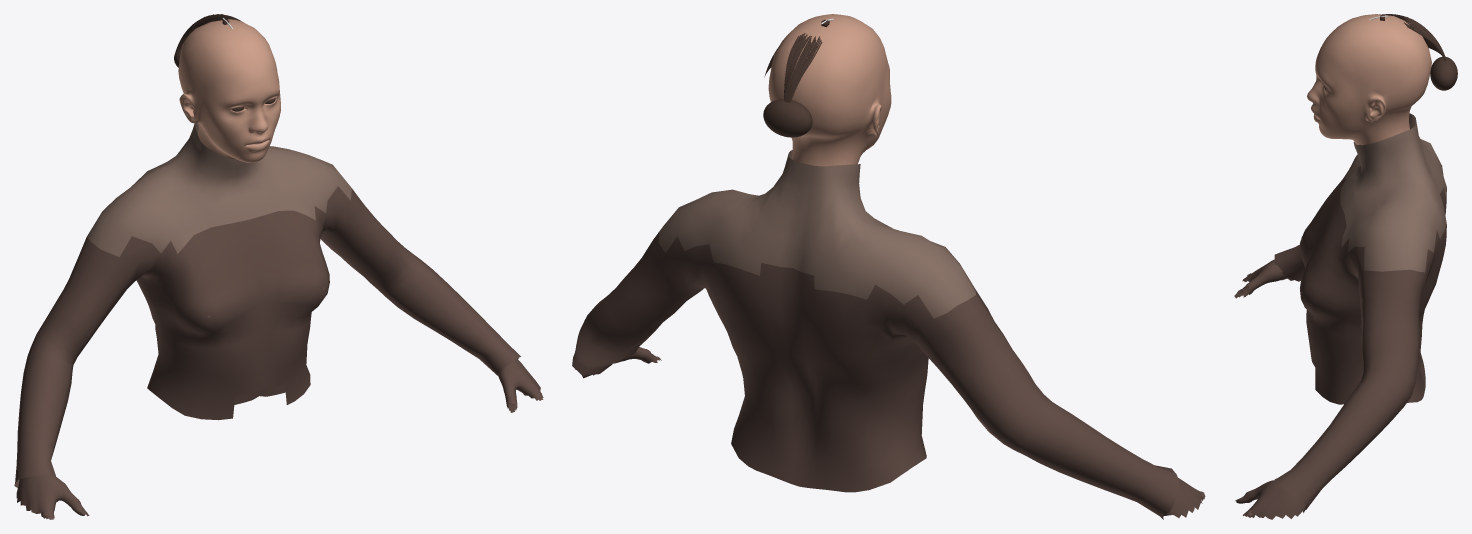
The model's file is avatar_V014_CALOTTA_ANATOMICA_DIAGNOSTICO.glb.
3 renders of one model, left to right at view 1: azimuth 30°, elevation 25°; view 2: azimuth 150°, elevation 25°; view 3: azimuth 270°, elevation 25°, orthographic. The views are drawn at different scales.
Visible parts, largest first — view 1: ARCHIVISTA_NUOVO_RIFERIMENTO_V49; view 2: ARCHIVISTA_NUOVO_RIFERIMENTO_V49, V014_CHIGNON_RACCORDATO, V014_CIOCCHE_VERSO_CHIGNON; view 3: ARCHIVISTA_NUOVO_RIFERIMENTO_V49, V014_CHIGNON_RACCORDATO, V014_CIOCCHE_VERSO_CHIGNON.
Part boxes in pixels (left/top/right/bottom): ARCHIVISTA_NUOVO_RIFERIMENTO_V49: left=14, top=19, right=543, bottom=519; ARCHIVISTA_NUOVO_RIFERIMENTO_V49: left=572, top=14, right=1205, bottom=519; V014_CHIGNON_RACCORDATO: left=763, top=99, right=812, bottom=137; V014_CIOCCHE_VERSO_CHIGNON: left=784, top=33, right=822, bottom=102; ARCHIVISTA_NUOVO_RIFERIMENTO_V49: left=1234, top=14, right=1446, bottom=519; V014_CHIGNON_RACCORDATO: left=1430, top=56, right=1457, bottom=90; V014_CIOCCHE_VERSO_CHIGNON: left=1404, top=16, right=1446, bottom=60.
Bounding box in the file's own units: 0.9237 × 0.673 × 0.3554.
